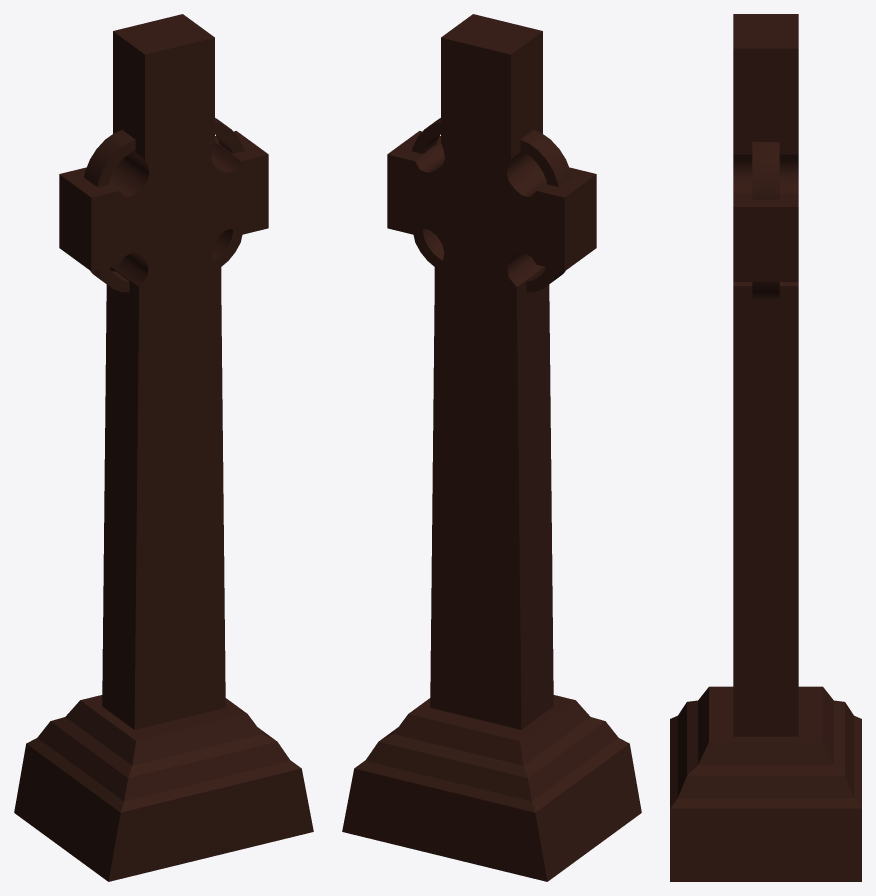
The model's file is 3 - StMartinsCross.FBX.
3 renders of one model, left to right at view 1: azimuth 30°, elevation 25°; view 2: azimuth 150°, elevation 25°; view 3: azimuth 270°, elevation 25°, orthographic.
Visible parts, largest first — view 1: Box006; view 2: Box006; view 3: Box006.
Part boxes in pixels (box(x1,y1,x2,y2)): Box006: box(14, 14, 313, 881); Box006: box(342, 14, 641, 881); Box006: box(670, 14, 861, 881).
Size of the model in its own units: 35.85 by 131 by 28.55.
